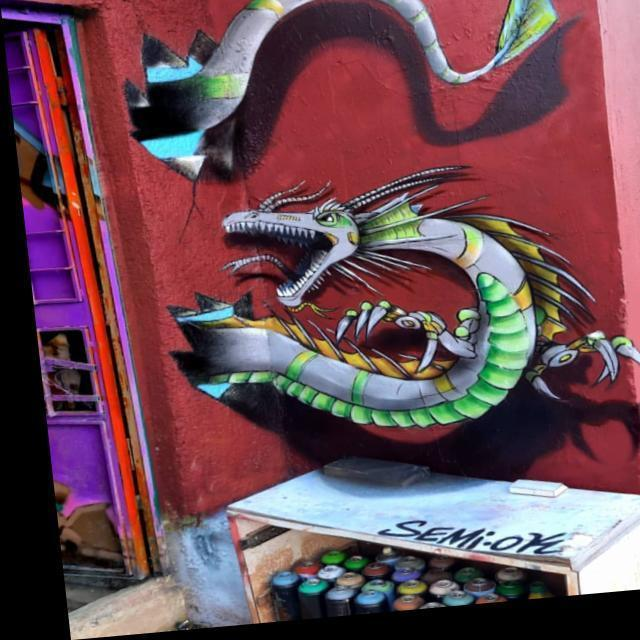spitting: (172, 157, 640, 435), (124, 0, 560, 176)
